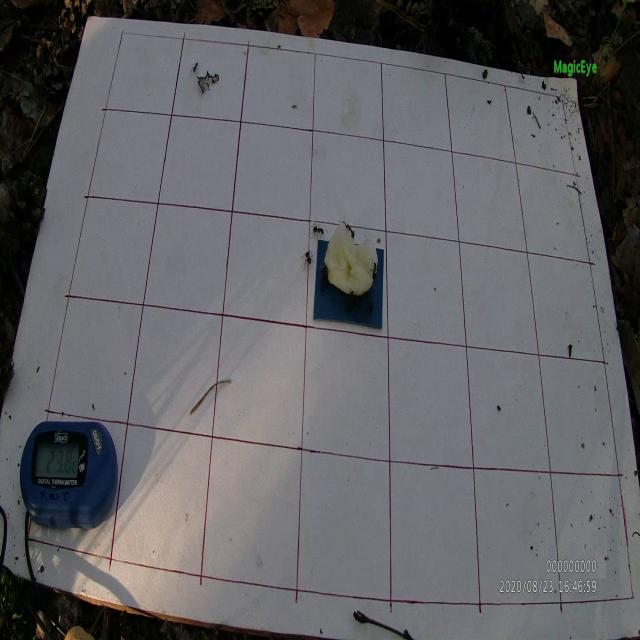Ant: (311, 221, 329, 239), (302, 249, 316, 270), (368, 260, 379, 278), (190, 60, 201, 74), (346, 222, 355, 238)
